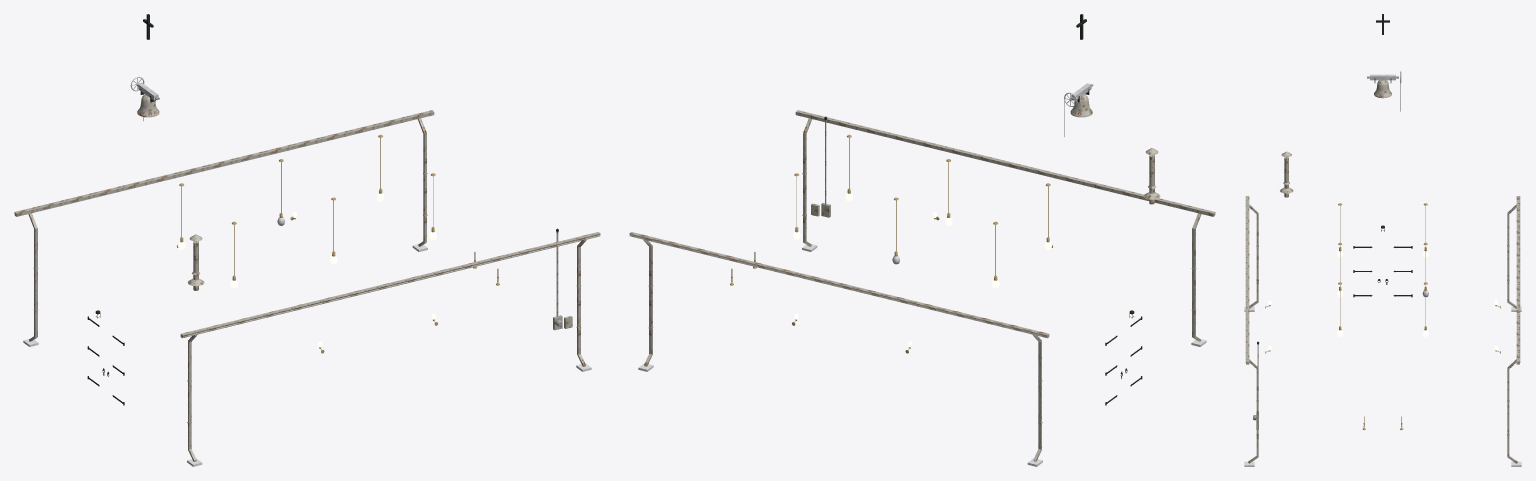
File: SM_Town_Church_Fixtures.glb
3 renders of one model, left to right at view 1: azimuth 30°, elevation 25°; view 2: azimuth 150°, elevation 25°; view 3: azimuth 270°, elevation 25°, orthographic. The views are drawn at different scales.
Visible parts, largest first — view 1: SM_Town_Church_Fixtures; view 2: SM_Town_Church_Fixtures; view 3: SM_Town_Church_Fixtures.
Boxes of the visible parts, bbox=[...] form: SM_Town_Church_Fixtures: bbox=[14, 14, 600, 466]; SM_Town_Church_Fixtures: bbox=[629, 14, 1215, 466]; SM_Town_Church_Fixtures: bbox=[1244, 14, 1521, 466].
Size of the model in its own units: 14.79 by 12.79 by 10.36.
Materials: 13 (6 with a texture image).
